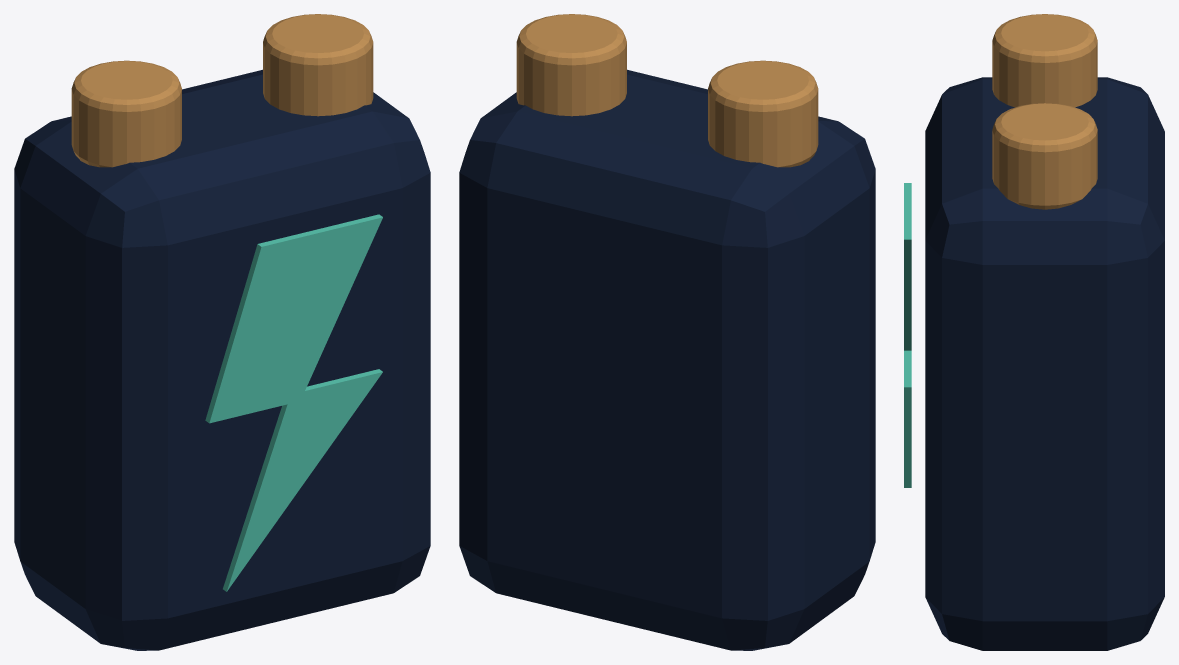
File: Item_relay_battery.fbx
3 views of the same model, side by side, from view 1: azimuth 30°, elevation 25°; view 2: azimuth 150°, elevation 25°; view 3: azimuth 270°, elevation 25° (orthographic). The views are drawn at different scales.
Parts seen in each view (by area): view 1: Item_relay_battery.Mesh; view 2: Item_relay_battery.Mesh; view 3: Item_relay_battery.Mesh.
Part boxes in pixels (x1,y1,x2,y2): Item_relay_battery.Mesh: (14,14,430,650); Item_relay_battery.Mesh: (459,14,875,650); Item_relay_battery.Mesh: (904,14,1164,650).
Bounding box in the file's own units: 39 × 59.5 × 27.2.
